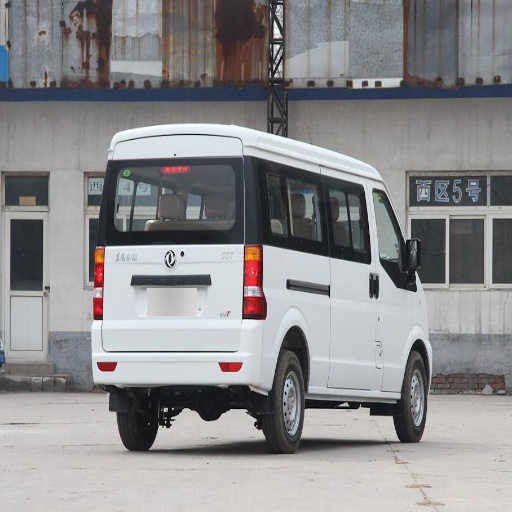back_bumper: (92, 333, 276, 388)
trunk: (95, 243, 353, 375)
